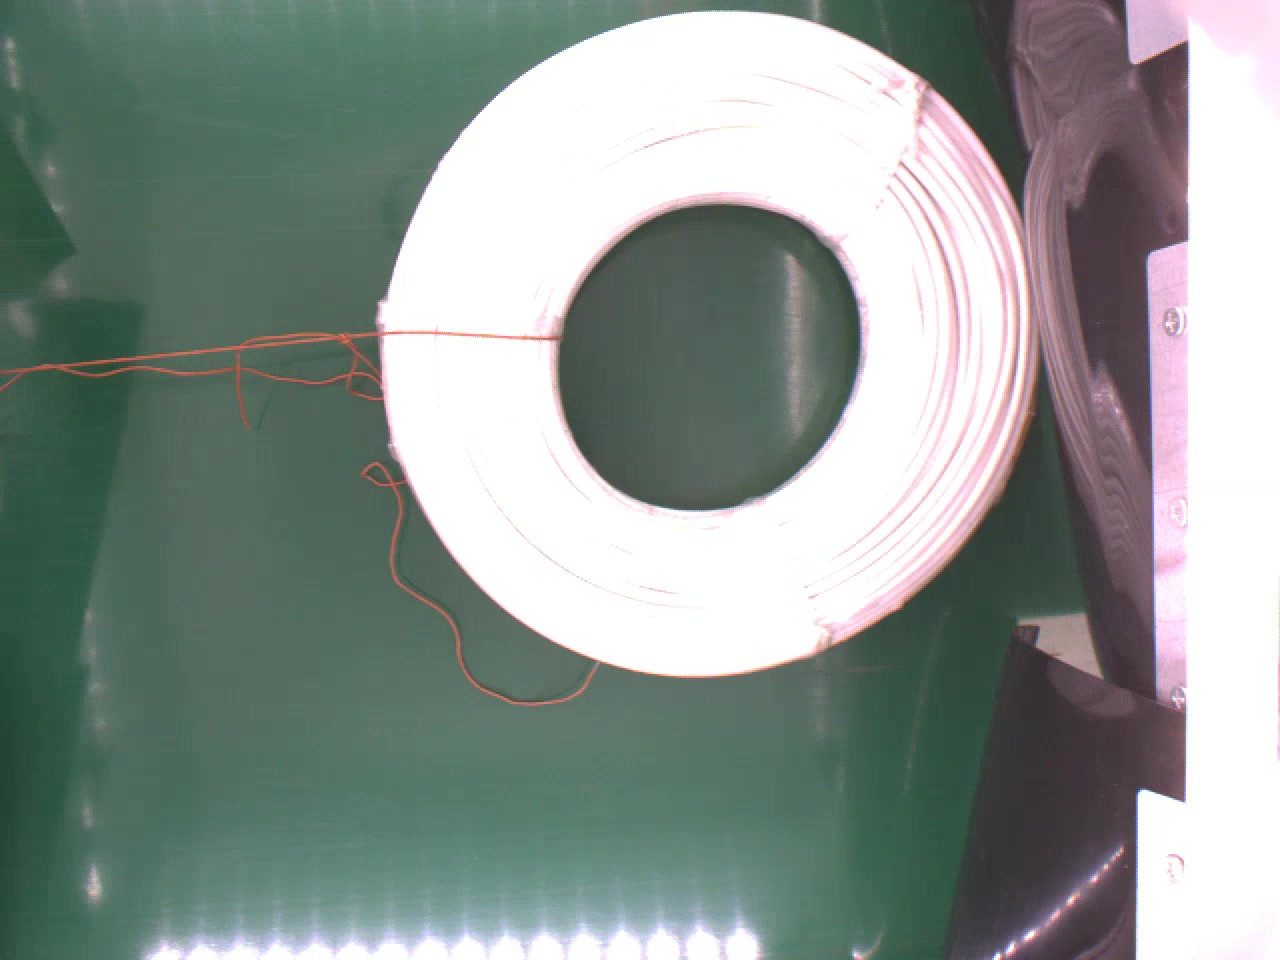white: (371, 7, 1049, 678)
